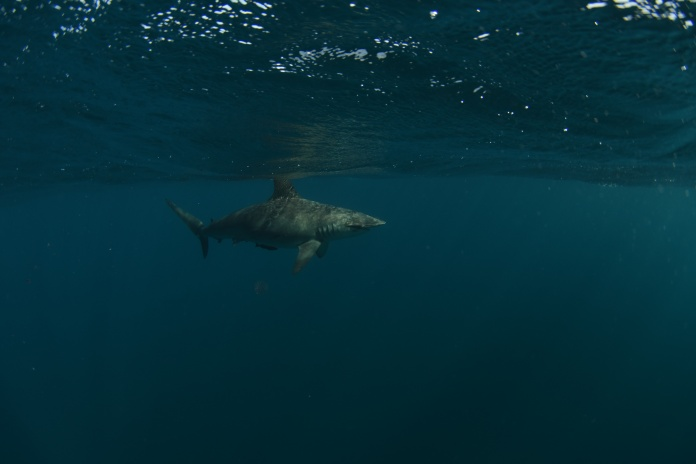Hammer: (141, 162, 432, 282)
